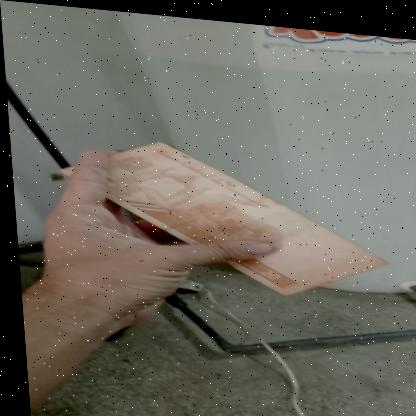twenty-back-vef: (51, 130, 389, 299)
